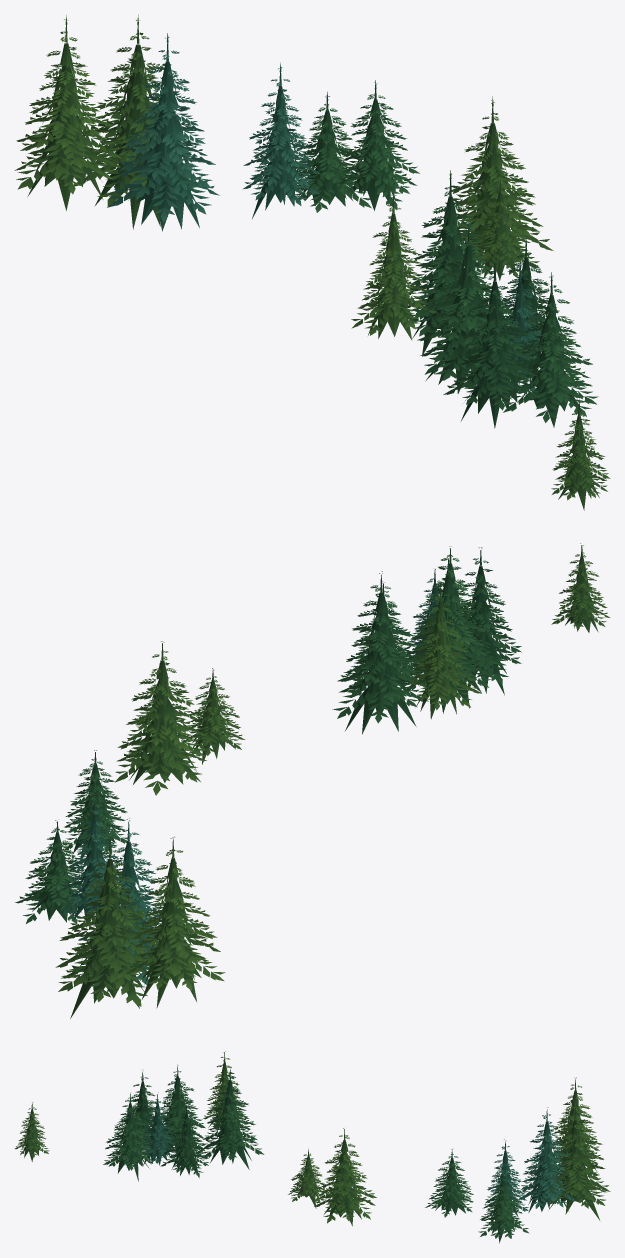
The picture shows the model from 3 angles, top to bottom: view 1: azimuth 30°, elevation 25°; view 2: azimuth 150°, elevation 25°; view 3: azimuth 270°, elevation 25°; orthographic projection. The views are drawn at different scales.
Visible parts, largest first — view 1: pn_14; view 2: pn_14; view 3: pn_14.
Boxes of the visible parts, left/top/right/bottom form: pn_14: left=14, top=14, right=610, bottom=510; pn_14: left=15, top=543, right=610, bottom=1018; pn_14: left=14, top=1051, right=610, bottom=1243.
Size of the model in its own units: 27.75 by 22.46 by 79.92.
1 material, 1 textured.
